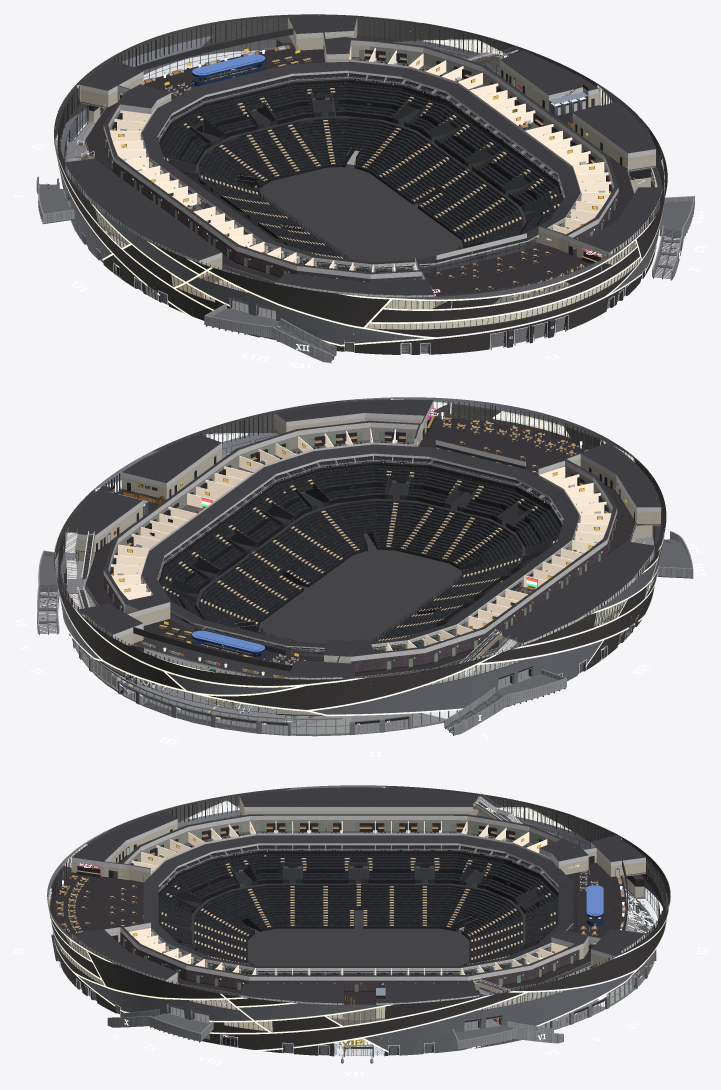
3 renders of one model, top to bottom at view 1: azimuth 30°, elevation 25°; view 2: azimuth 150°, elevation 25°; view 3: azimuth 270°, elevation 25°, orthographic. The views are drawn at different scales.
Parts seen in each view (by area): view 1: object 1, W_S2_tribun_sutott, W_S2_hom_sutott; view 2: object 1, W_S2_tribun_sutott, W_S2_hom_sutott; view 3: object 1, W_S2_tribun_sutott, W_S2_hom_sutott.
Boxes of the visible parts, x1=… form: object 1: x1=14, y1=15, x2=706, y2=368; W_S2_tribun_sutott: x1=54, y1=15, x2=667, y2=354; W_S2_hom_sutott: x1=36, y1=14, x2=694, y2=363; object 1: x1=14, y1=398, x2=706, y2=756; W_S2_tribun_sutott: x1=56, y1=398, x2=666, y2=724; W_S2_hom_sutott: x1=36, y1=397, x2=693, y2=735; object 1: x1=14, y1=787, x2=706, y2=1075; W_S2_tribun_sutott: x1=47, y1=789, x2=669, y2=1052; W_S2_hom_sutott: x1=47, y1=785, x2=670, y2=1063.
Bounding box in the file's own units: 161 × 19.48 × 189.
333 materials, 118 textured.
